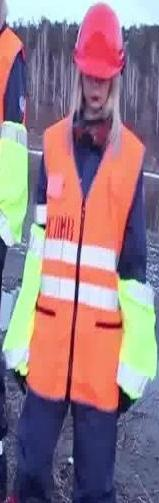boots: (0, 298, 17, 388), (0, 330, 20, 386)
gloves: (0, 232, 11, 298), (0, 206, 7, 268)
hard-hat: (72, 0, 127, 78)
vest: (0, 24, 52, 205)
